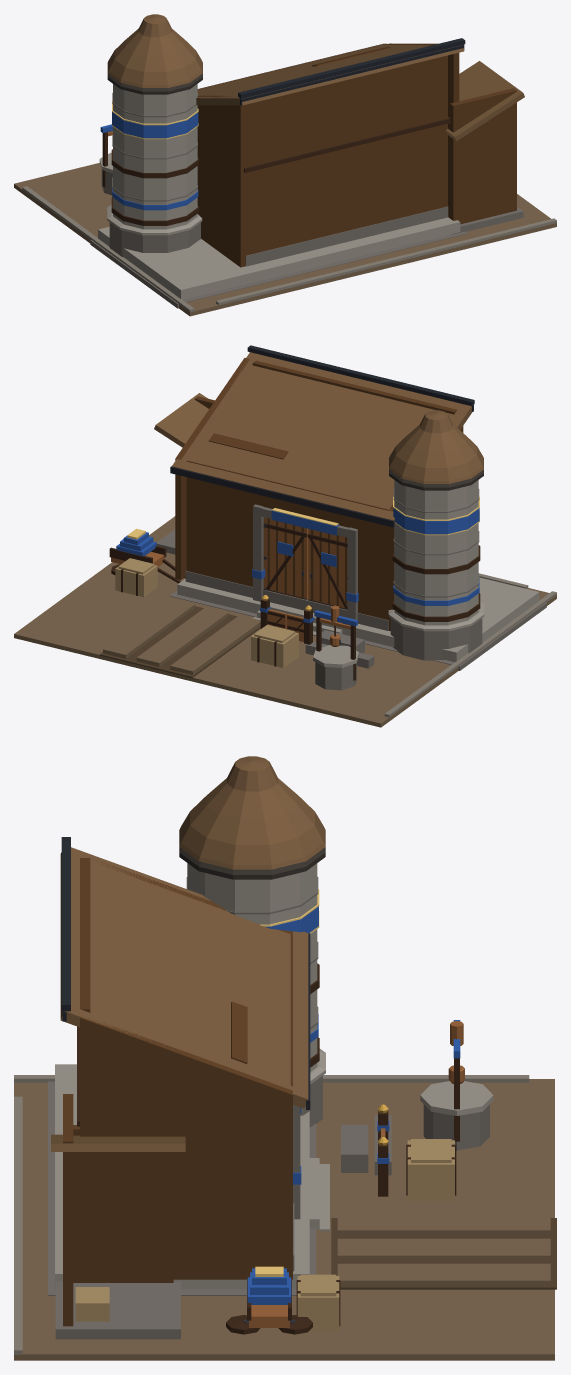
3 renders of one model, top to bottom at view 1: azimuth 30°, elevation 25°; view 2: azimuth 150°, elevation 25°; view 3: azimuth 270°, elevation 25°, orthographic. The views are drawn at different scales.
Visible parts, largest first — view 1: FM-主体, FM-team, FM-team_trim; view 2: FM-主体, FM-team, FM-team_trim; view 3: FM-主体, FM-team.
Part boxes in pixels (bbox=[...]): FM-主体: bbox=[14, 14, 556, 316]; FM-team: bbox=[100, 112, 198, 210]; FM-team_trim: bbox=[112, 101, 198, 139]; FM-主体: bbox=[14, 345, 556, 727]; FM-team: bbox=[116, 508, 479, 626]; FM-team_trim: bbox=[127, 497, 479, 539]; FM-主体: bbox=[14, 756, 556, 1360]; FM-team: bbox=[247, 906, 460, 1304].
Bounding box in the file's own units: 15.35 × 9.22 × 12.75.
Materials: 3 (1 with a texture image).
